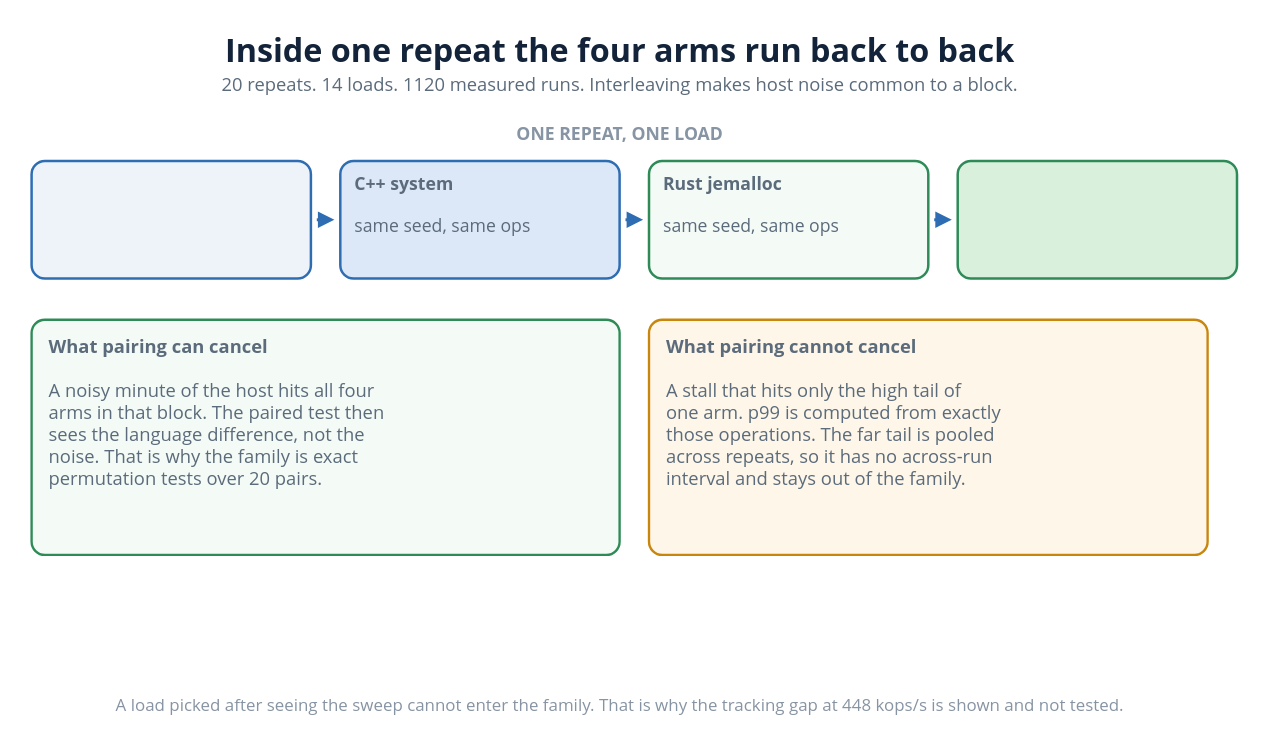
This 1264x744 diagram has some shape labels left out. Each missing label, with the centre of its shape:
"C++ jemalloc same seed, same ops" goes at point (170, 219).
"Rust system same seed, same ops" goes at point (1097, 219).
